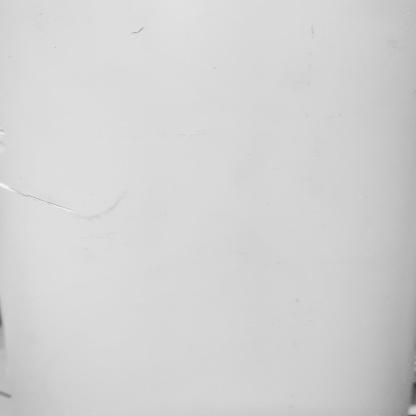sunshang: (4, 173, 82, 214)
